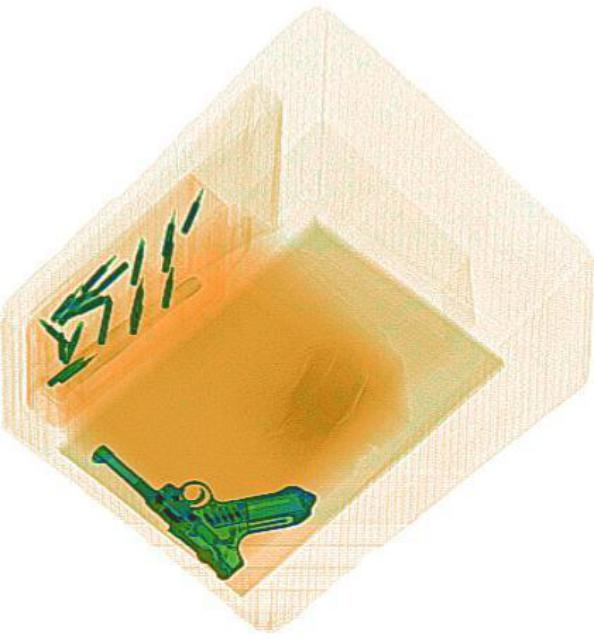Gun: (82, 366, 319, 594)
